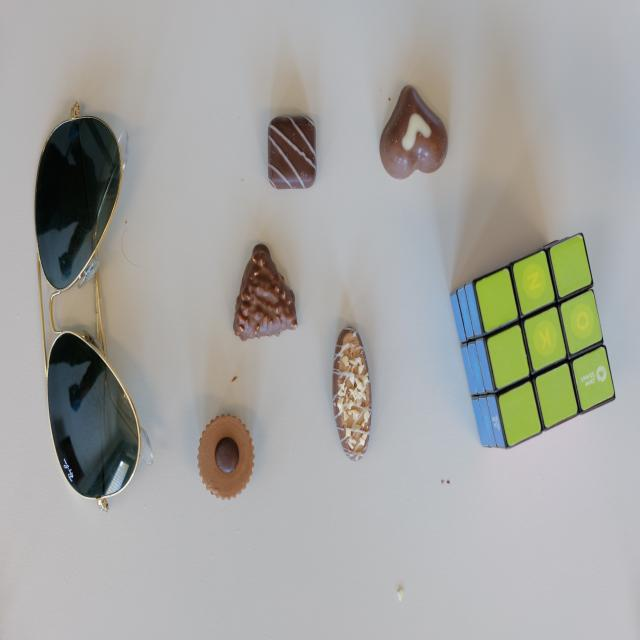Amandina: (333, 326, 372, 463)
Noblesse: (197, 413, 254, 501)
Passion_au_lait: (379, 85, 449, 180)
Stracciatella: (267, 114, 316, 190)
Triangolo: (233, 243, 299, 340)
